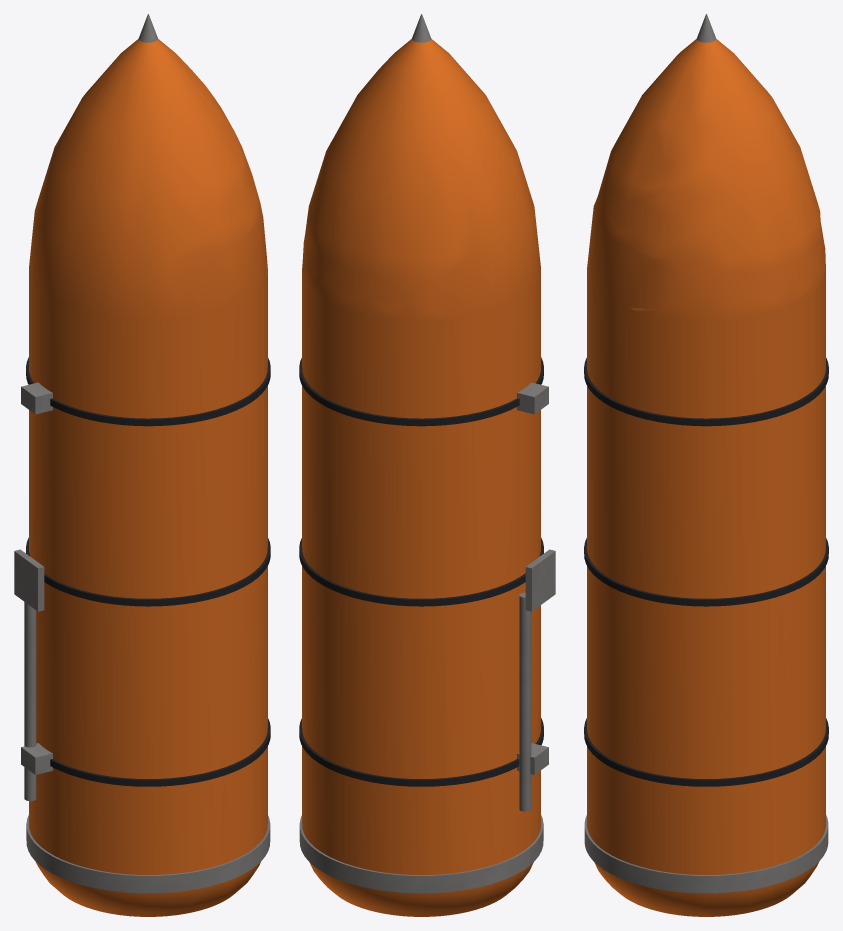
File: tank07_drop_tank_m.glb
3 views of the same model, side by side, from view 1: azimuth 30°, elevation 25°; view 2: azimuth 150°, elevation 25°; view 3: azimuth 270°, elevation 25° (orthographic).
Visible parts, largest first — view 1: tank, straps, fittings, aft_ring; view 2: tank, straps, fittings, aft_ring; view 3: tank, straps, aft_ring.
Boxes of the visible parts, <box> form: tank: <box>29,39,267,916</box>; straps: <box>26,357,270,786</box>; fittings: <box>14,382,52,801</box>; aft_ring: <box>26,815,270,893</box>; tank: <box>302,39,540,916</box>; straps: <box>299,357,543,786</box>; fittings: <box>517,382,555,811</box>; aft_ring: <box>299,815,543,893</box>; tank: <box>587,39,825,916</box>; straps: <box>584,357,828,786</box>; aft_ring: <box>584,815,828,893</box>.
Size of the model in its own units: 2.75 by 9.95 by 2.56.
3 materials, 1 textured.
